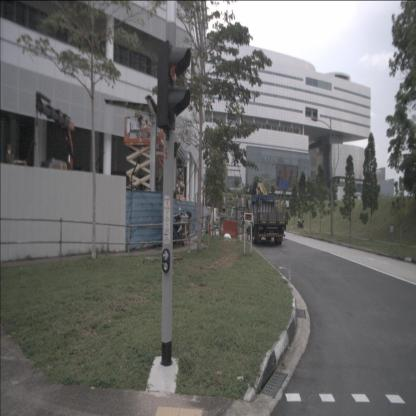movable_object-barrier: (223, 219, 238, 238)
movable_object-trafficcone: (220, 222, 224, 235)
vehicle-motorcycle: (164, 212, 184, 246), (297, 218, 304, 230)
vehicle-truck: (249, 194, 289, 244)
